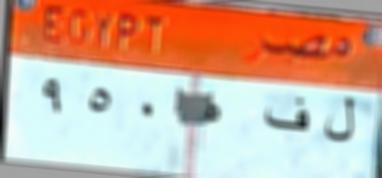0: (135, 98, 158, 124)
5: (83, 84, 116, 115)
9: (38, 78, 68, 116)
faa: (260, 97, 314, 136)
laam: (324, 95, 364, 148)
